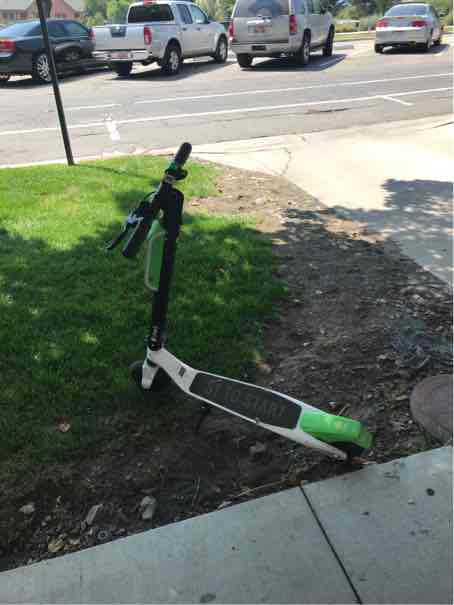scooter: (103, 122, 387, 469)
